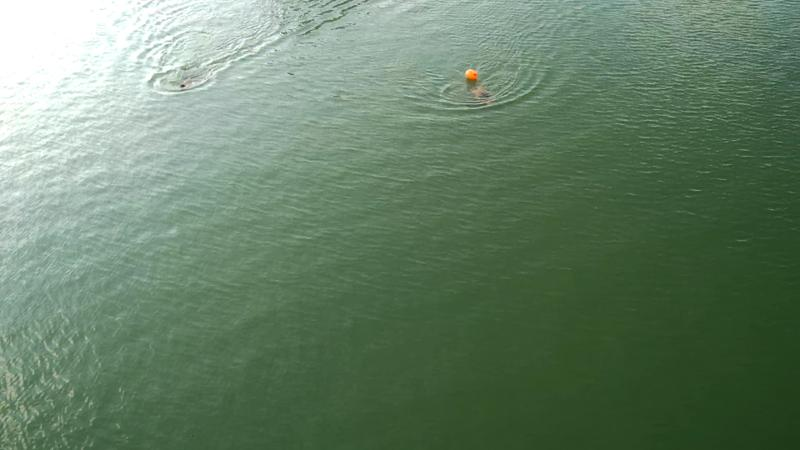swimmers: (471, 85, 496, 107)
